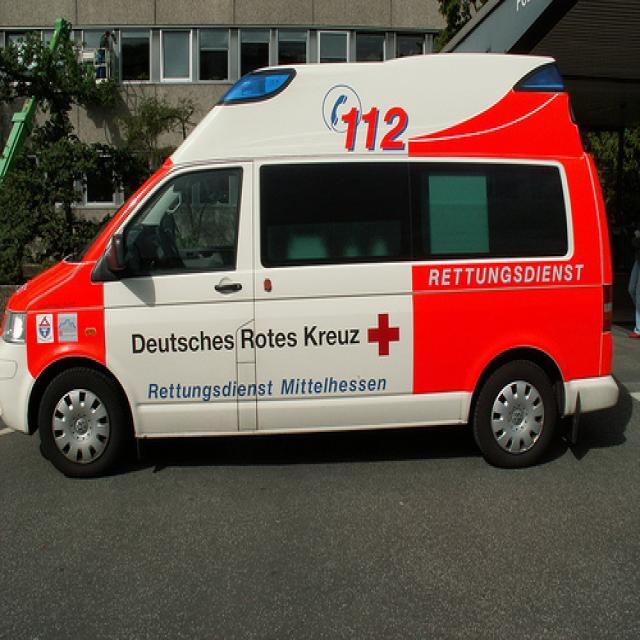emergency-vehicle: (1, 51, 618, 464)
